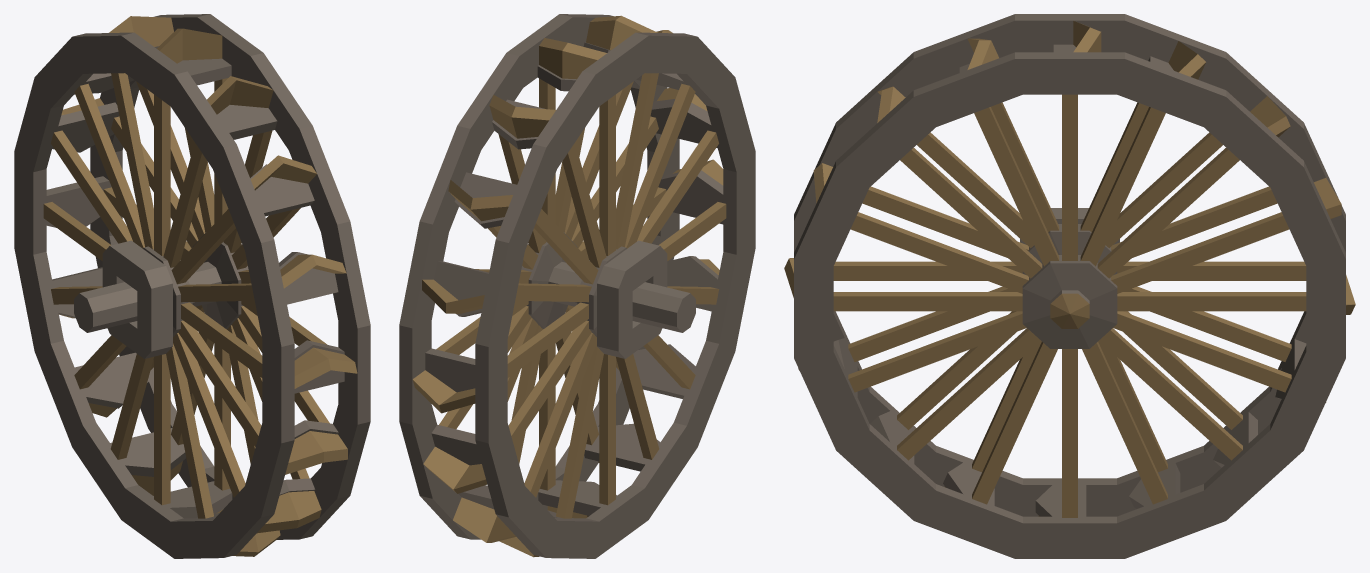
The model's file is waterwheel-col.gltf.
3 views of the same model, side by side, from view 1: azimuth 30°, elevation 25°; view 2: azimuth 150°, elevation 25°; view 3: azimuth 270°, elevation 25° (orthographic). The views are drawn at different scales.
Visible parts, largest first — view 1: waterwheel-col; view 2: waterwheel-col; view 3: waterwheel-col.
Boxes of the visible parts, x1,y1,x2,y2 form: waterwheel-col: (14, 14, 370, 558); waterwheel-col: (399, 14, 755, 558); waterwheel-col: (784, 14, 1355, 558).
Size of the model in its own units: 1.5 by 4.4 by 4.4.
